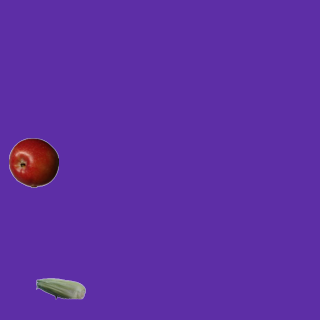Apple Braeburn: (8, 137, 58, 187)
Corn Husk: (35, 263, 85, 313)
